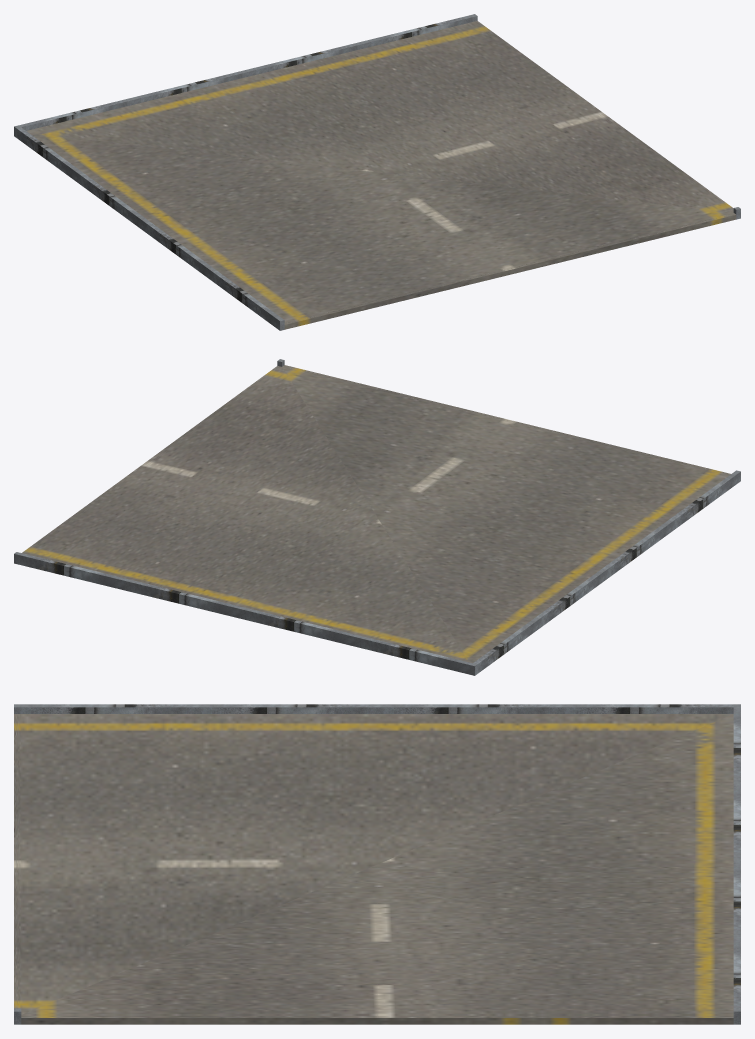
Rendered from Urban_Road1CornerSmallSides_Model.fbx.
3 views of the same model, one above another, from view 1: azimuth 30°, elevation 25°; view 2: azimuth 150°, elevation 25°; view 3: azimuth 270°, elevation 25° (orthographic). The views are drawn at different scales.
Parts seen in each view (by area): view 1: Urban_Road1CornerSmallSides_Mesh; view 2: Urban_Road1CornerSmallSides_Mesh; view 3: Urban_Road1CornerSmallSides_Mesh.
Part boxes in pixels (x1,y1,x2,y2): Urban_Road1CornerSmallSides_Mesh: (14,14,740,330); Urban_Road1CornerSmallSides_Mesh: (14,359,740,675); Urban_Road1CornerSmallSides_Mesh: (14,704,740,1024).
Size of the model in its own units: 16 by 0.32 by 16.
